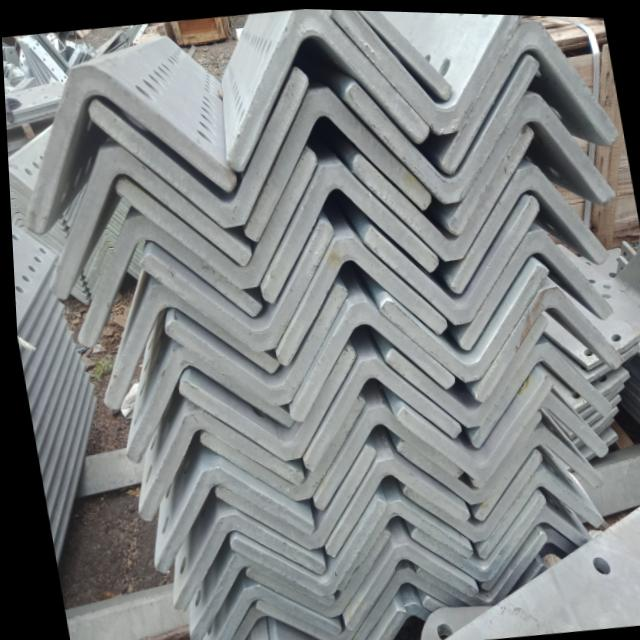metal-angles: (87, 64, 306, 226), (23, 65, 233, 233), (224, 9, 427, 171), (48, 146, 247, 299), (114, 145, 317, 287), (244, 87, 428, 239), (347, 54, 538, 200), (441, 18, 616, 168), (136, 220, 332, 349), (352, 122, 533, 258), (259, 163, 435, 302), (75, 215, 256, 348), (446, 92, 612, 231), (333, 8, 520, 130), (361, 192, 537, 320), (99, 283, 276, 409), (275, 235, 443, 365), (163, 284, 344, 403), (286, 298, 450, 419), (449, 162, 606, 288), (175, 346, 353, 457), (122, 346, 288, 463), (379, 263, 546, 379), (457, 226, 609, 347), (385, 310, 545, 424), (299, 355, 456, 469), (134, 412, 298, 520), (393, 370, 549, 481), (473, 283, 621, 399), (150, 465, 307, 573), (197, 395, 360, 499), (211, 443, 371, 546), (308, 404, 458, 507), (224, 498, 380, 593), (468, 339, 607, 445), (321, 455, 464, 555), (169, 513, 317, 609), (392, 406, 538, 501), (398, 446, 537, 539), (183, 552, 327, 640), (332, 497, 467, 590), (470, 425, 600, 517), (406, 491, 541, 579), (339, 542, 472, 628), (474, 469, 597, 558), (249, 569, 389, 640), (411, 528, 540, 602), (475, 504, 584, 588), (345, 567, 462, 640), (208, 583, 334, 640), (380, 600, 423, 640), (81, 235, 113, 281), (83, 241, 111, 288), (7, 171, 31, 192), (7, 176, 29, 196), (7, 180, 29, 199), (8, 185, 27, 202), (8, 192, 26, 207), (9, 206, 24, 221), (8, 199, 25, 212), (10, 213, 23, 225), (13, 219, 22, 228)
